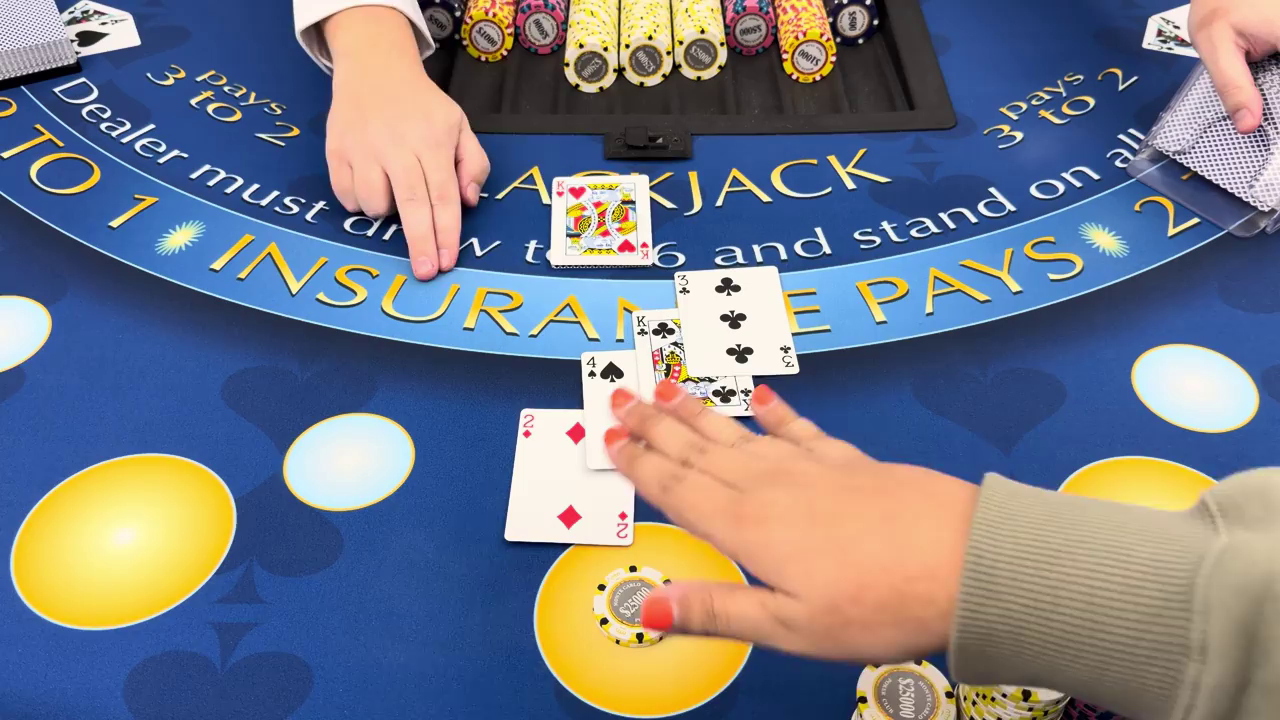2D: (613, 509, 632, 543), (519, 408, 537, 441)
3C: (773, 344, 800, 371), (674, 273, 697, 297)
4S: (582, 353, 601, 382)
KC: (737, 384, 760, 416), (632, 308, 652, 338)
KH: (553, 175, 570, 199), (636, 240, 653, 264)
